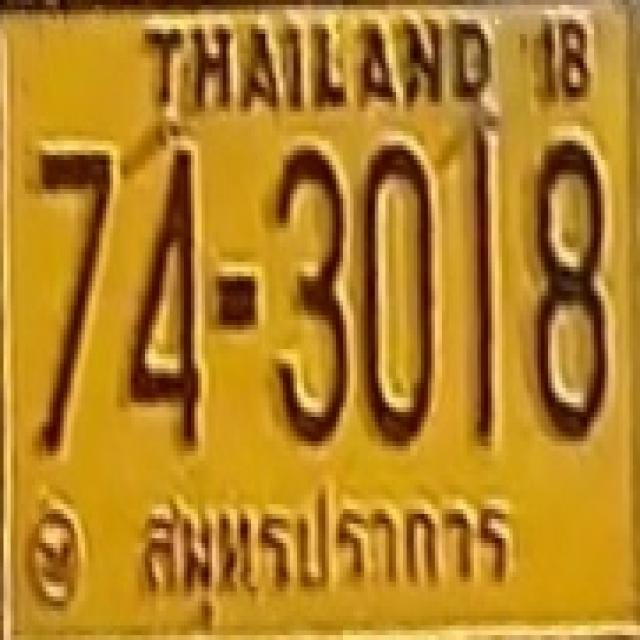0: (359, 141, 433, 441)
3: (268, 143, 346, 439)
4: (122, 143, 200, 444)
7: (35, 148, 110, 434), (35, 148, 110, 337)
8: (526, 136, 604, 436)
SPK: (135, 476, 521, 605)
